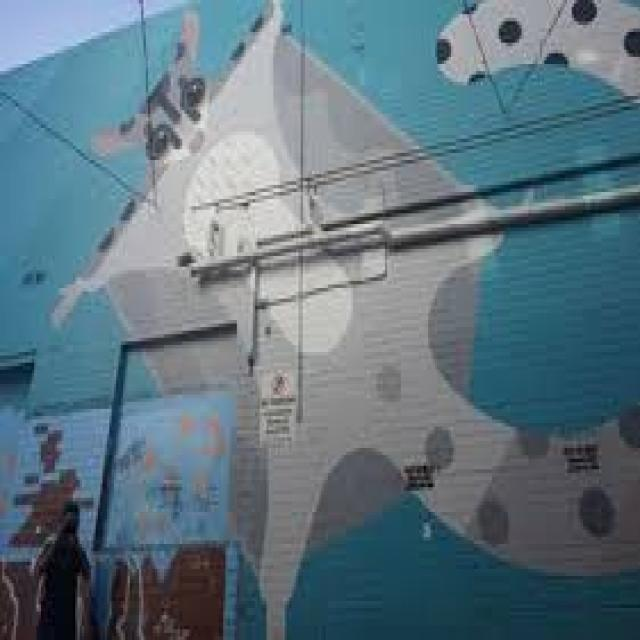-: (57, 0, 640, 633)
